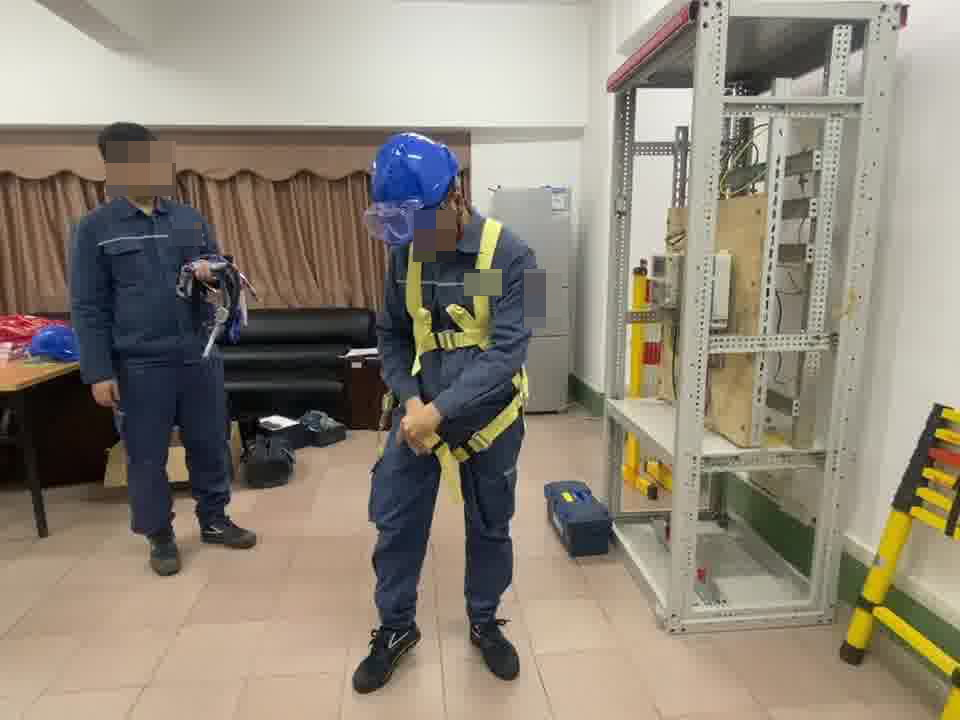downsuit: (362, 384, 527, 627), (115, 373, 236, 531)
halt: (368, 133, 464, 243)
hand: (397, 398, 444, 457), (91, 377, 124, 409), (191, 258, 215, 283)
inear: (437, 188, 471, 227)
noear: (101, 156, 122, 180)
person: (356, 134, 545, 686), (75, 122, 246, 562)
safebelt: (369, 210, 535, 507)
sleeve: (525, 270, 545, 306)
unhalt: (97, 123, 167, 198)
upsuit: (368, 205, 538, 364), (78, 197, 220, 365)
